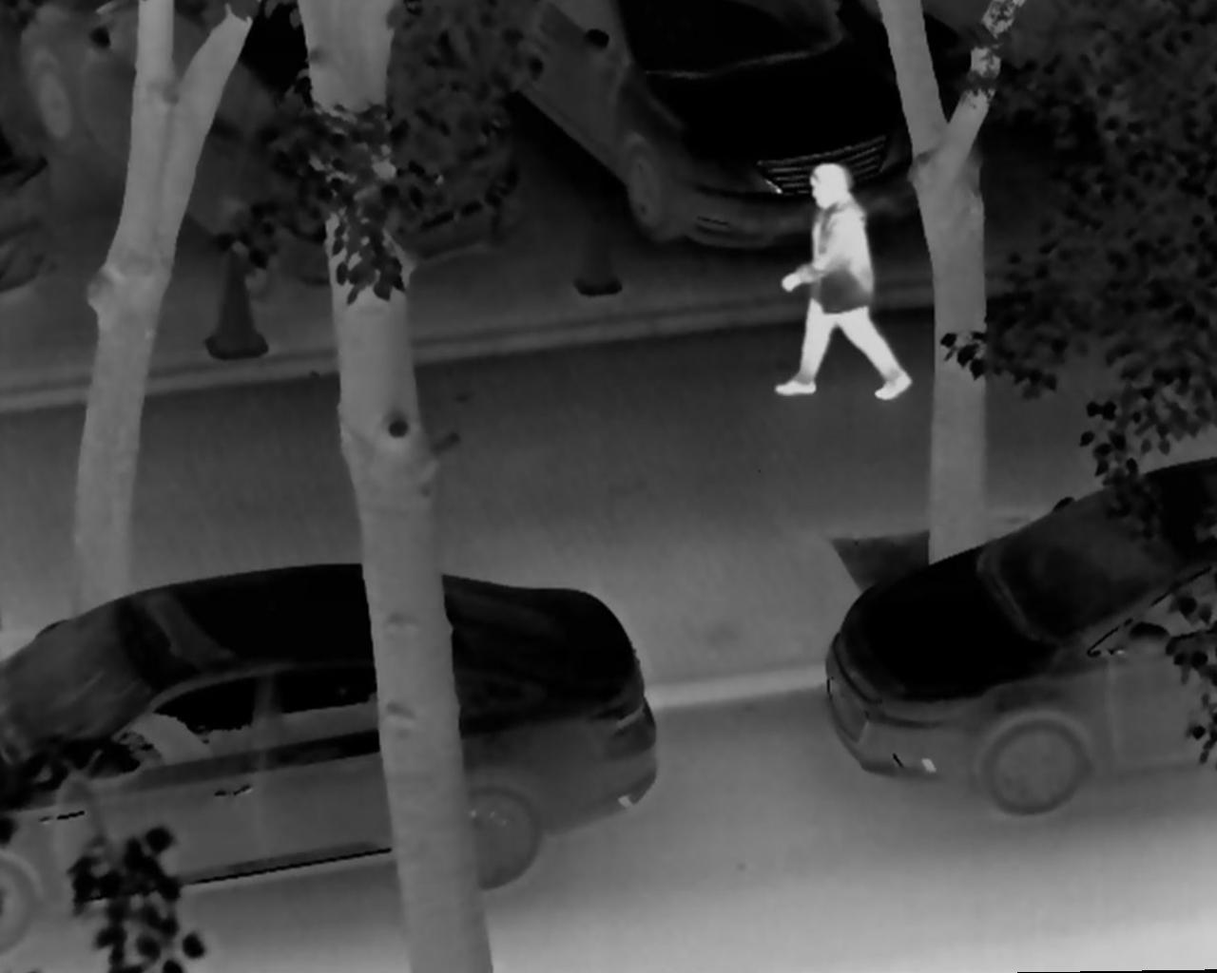person: (775, 161, 913, 402)
